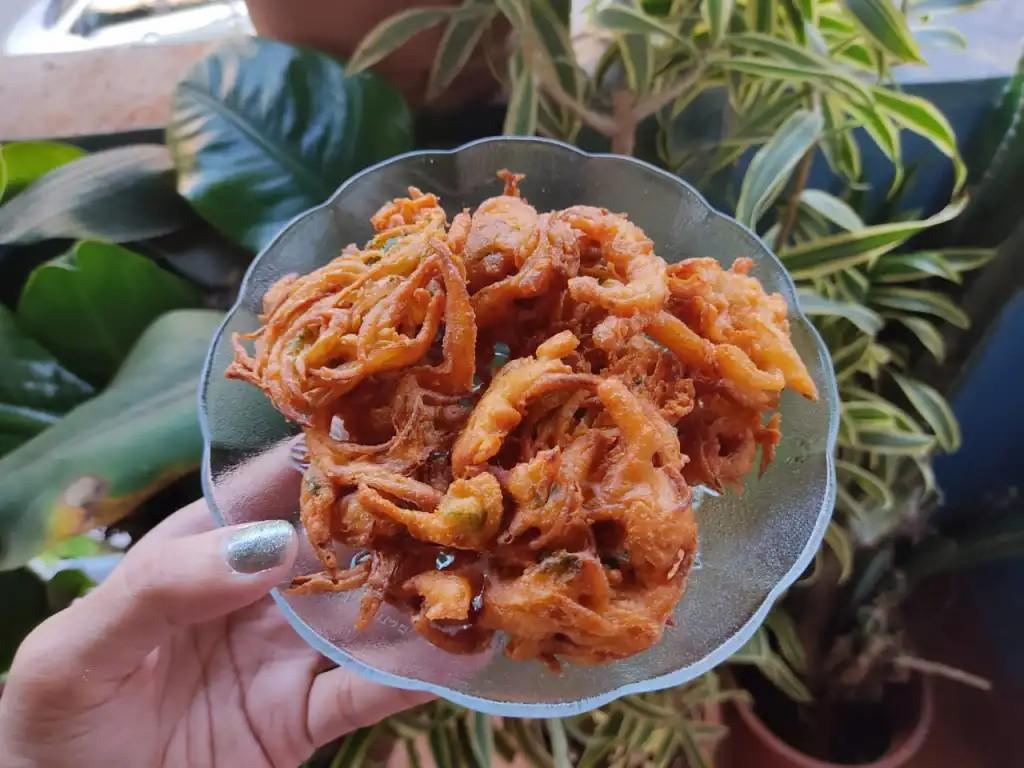OnionPakoda: (229, 167, 821, 671)
